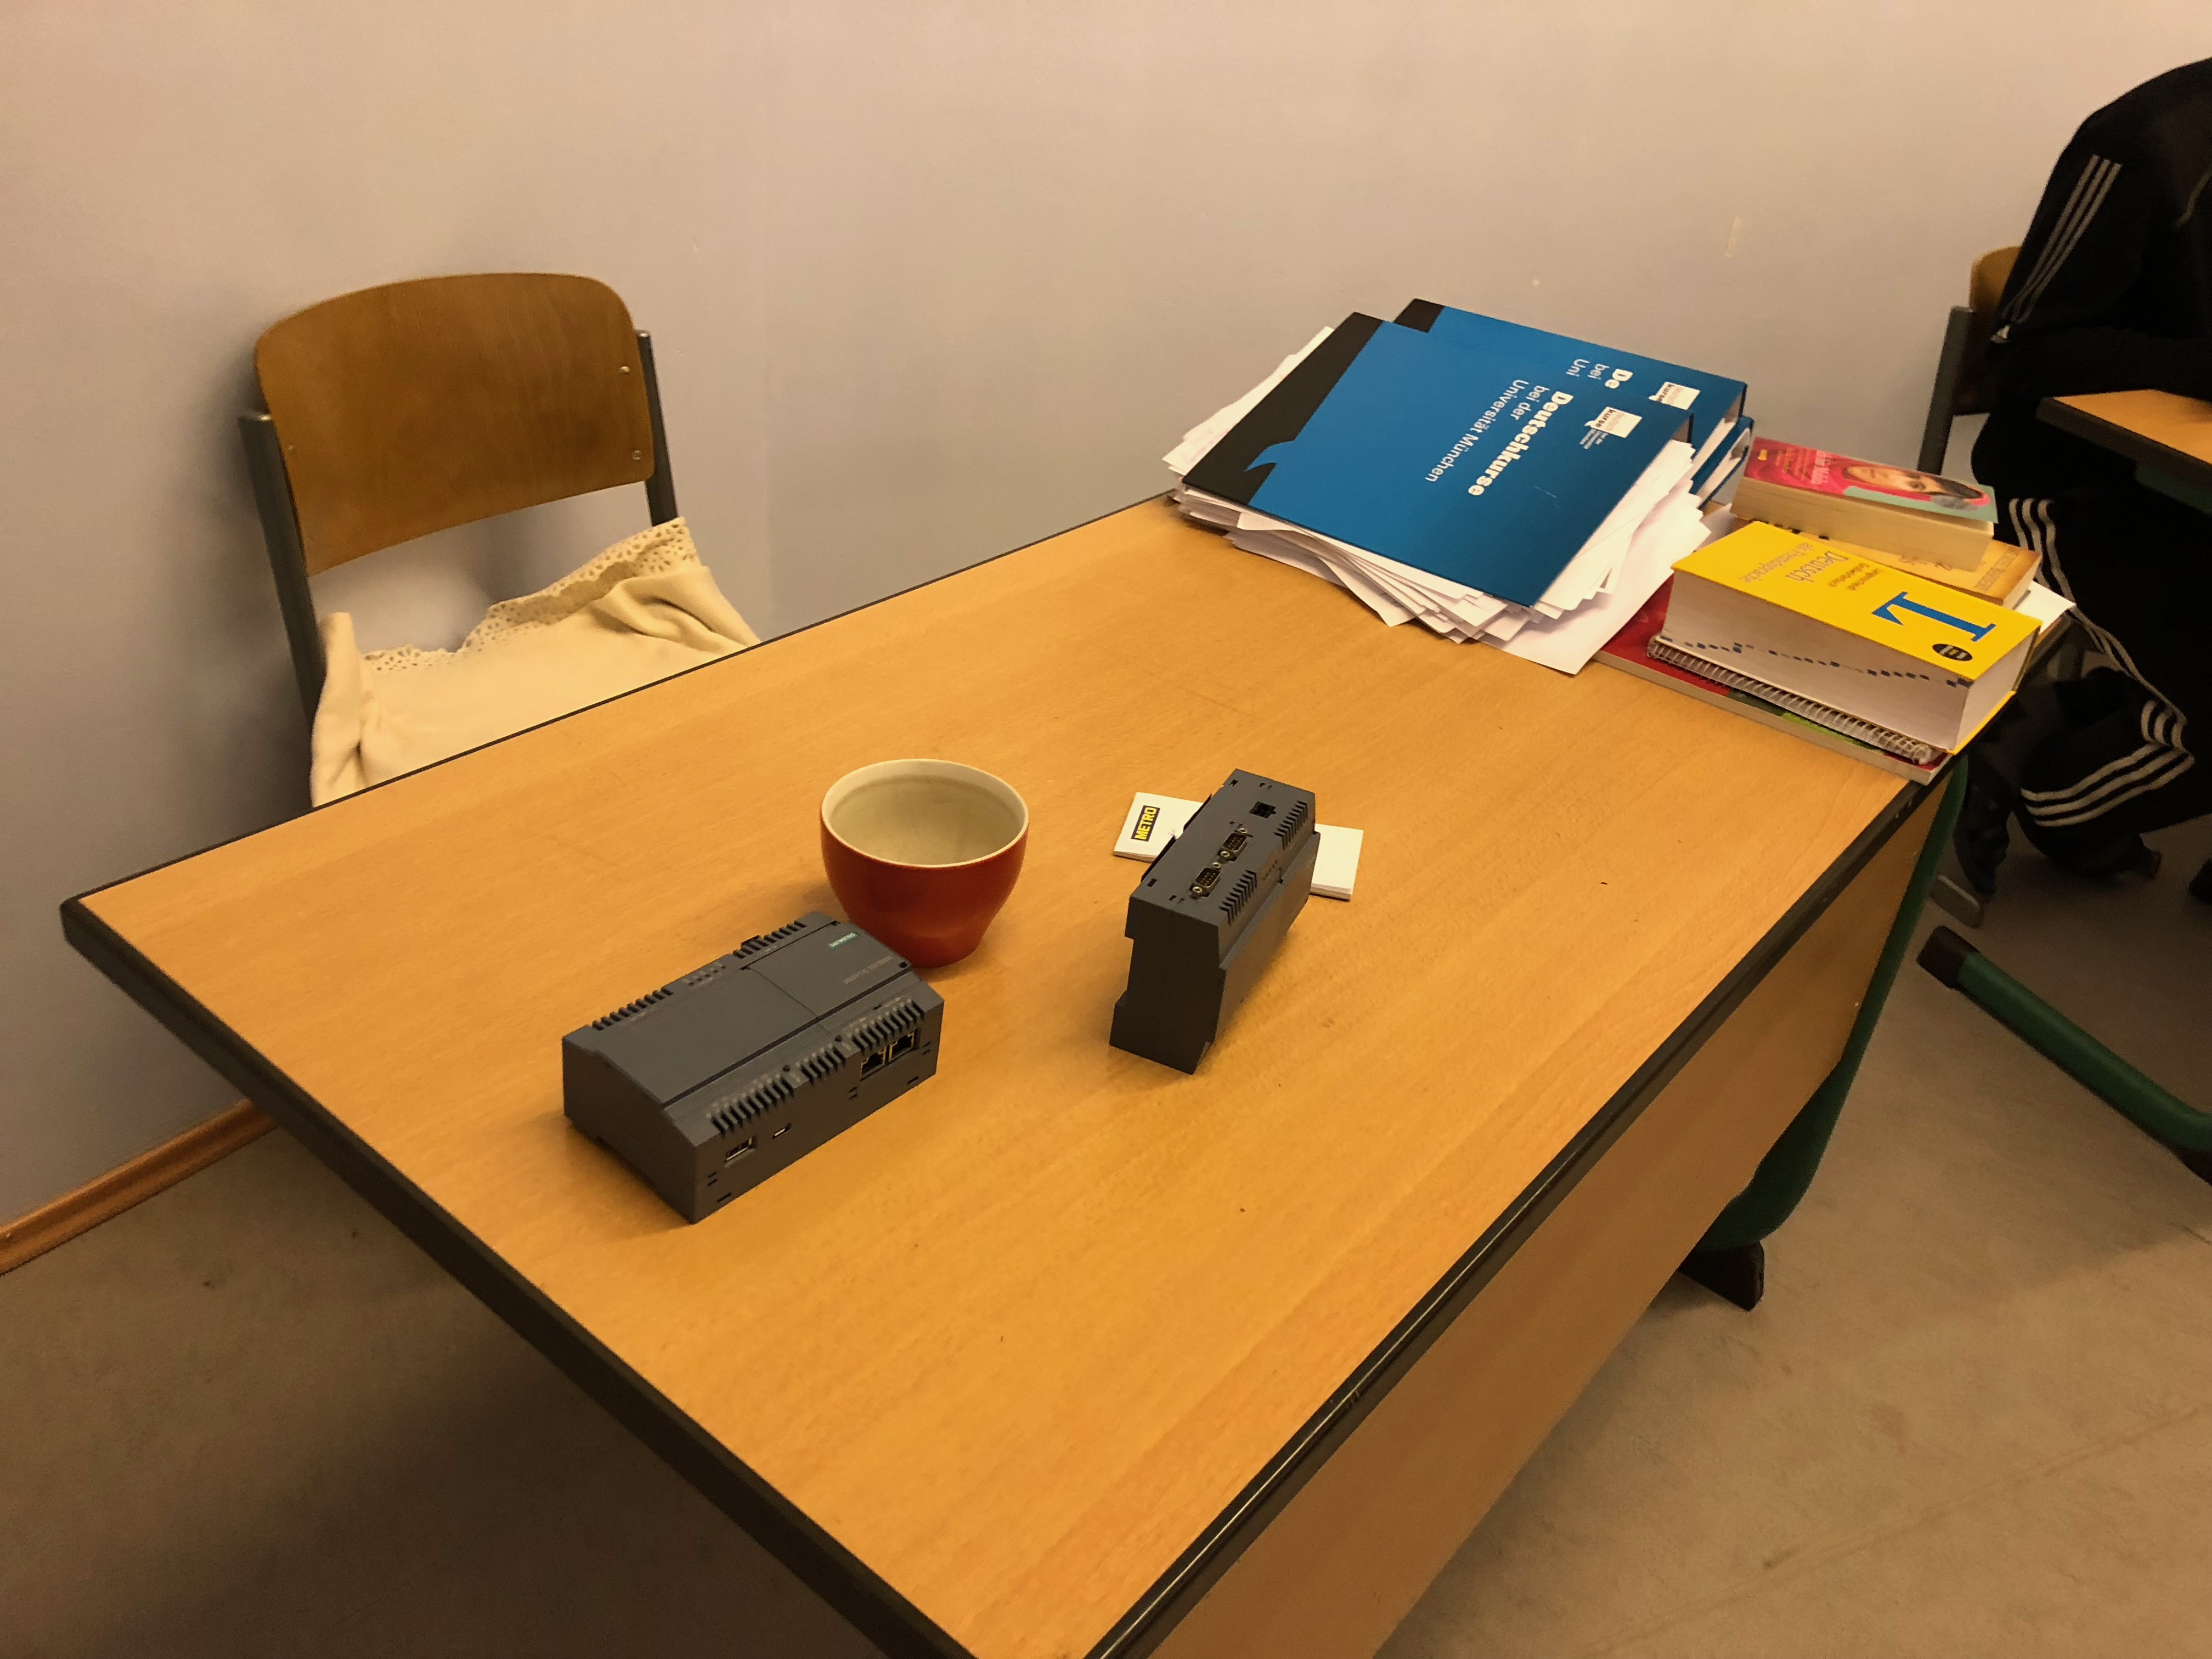device: (561, 910, 946, 1225), (1108, 767, 1322, 1077)
